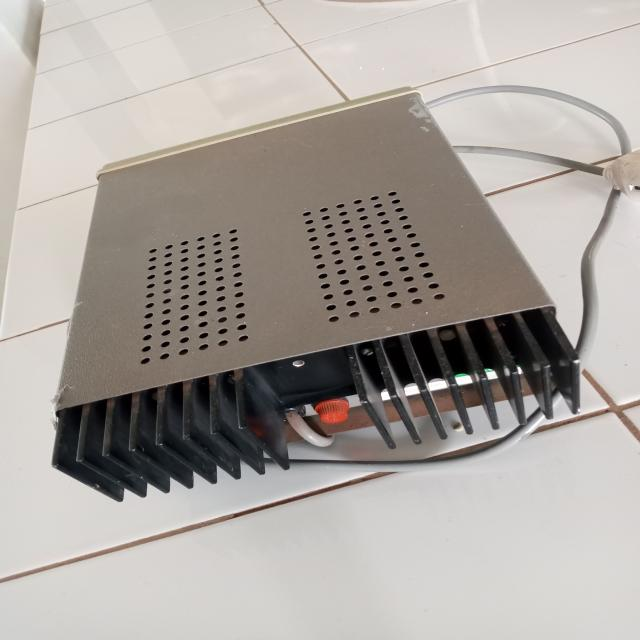Digital Power Supply: (48, 83, 586, 500)
